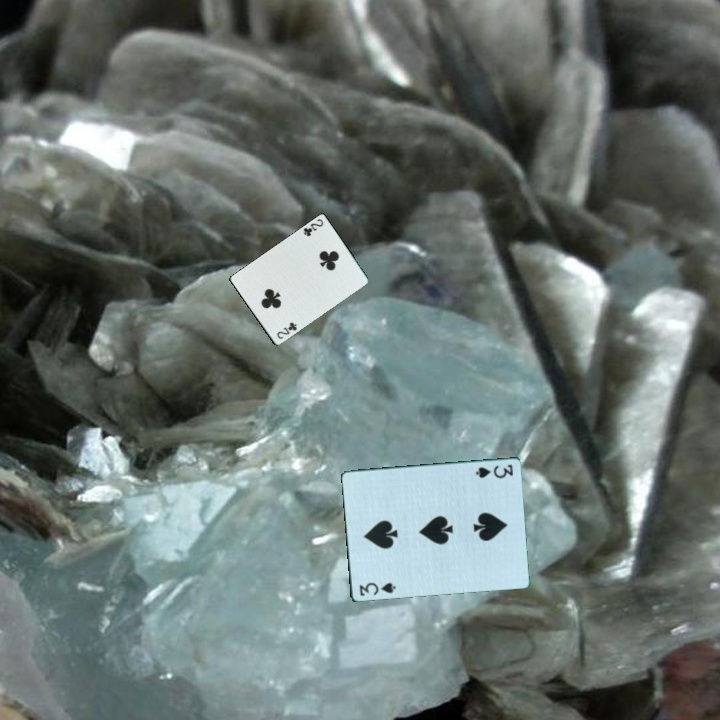2c: (300, 216, 326, 240), (273, 319, 300, 342)
3s: (472, 461, 516, 481), (356, 579, 398, 599)
